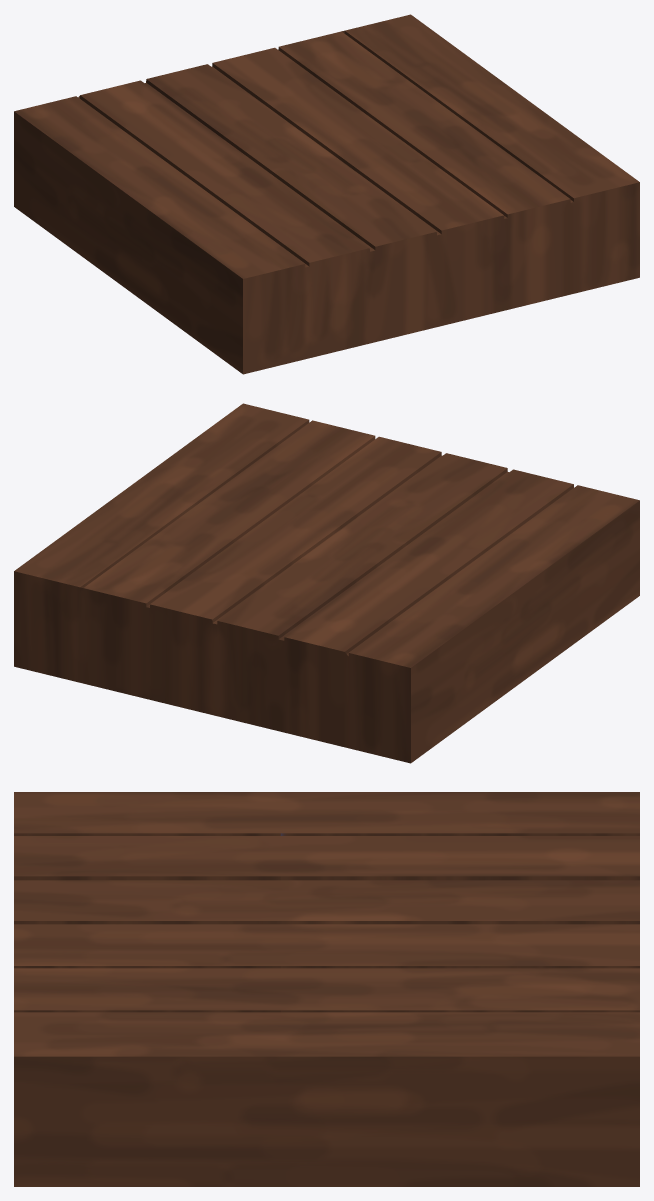
Rendered from floor.obj.
3 renders of one model, top to bottom at view 1: azimuth 30°, elevation 25°; view 2: azimuth 150°, elevation 25°; view 3: azimuth 270°, elevation 25°, orthographic. The views are drawn at different scales.
Visible parts, largest first — view 1: Piso; view 2: Piso; view 3: Piso.
Boxes of the visible parts, x1,y1,x2,y2 form: Piso: [14, 14, 639, 374]; Piso: [14, 403, 639, 763]; Piso: [14, 792, 639, 1186].
Size of the model in its own units: 2.96 by 0.6811 by 2.96.
1 material, 1 textured.
